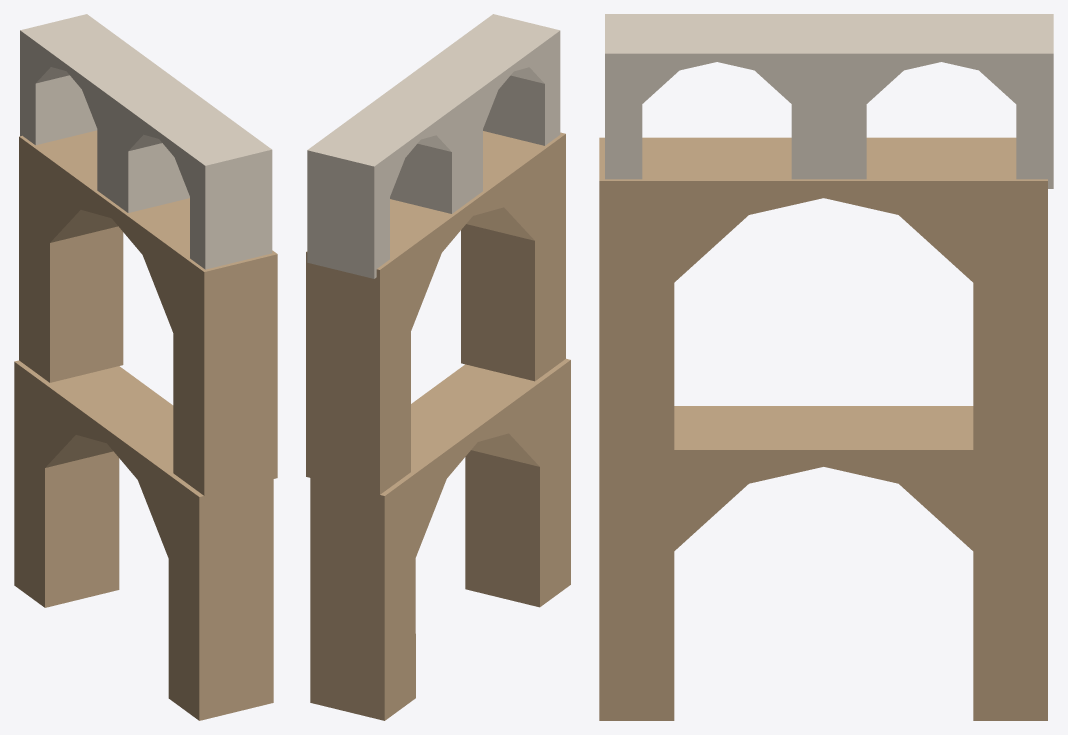
File: star.fbx
3 views of the same model, side by side, from view 1: azimuth 30°, elevation 25°; view 2: azimuth 150°, elevation 25°; view 3: azimuth 270°, elevation 25° (orthographic). The views are drawn at different scales.
Parts seen in each view (by area): view 1: assets.135; view 2: assets.135; view 3: assets.135.
Part boxes in pixels (bbox=[...]): assets.135: bbox=[14, 14, 277, 720]; assets.135: bbox=[306, 14, 570, 720]; assets.135: bbox=[599, 14, 1053, 720].
Bounding box in the file's own units: 586 × 3942 × 2429.
